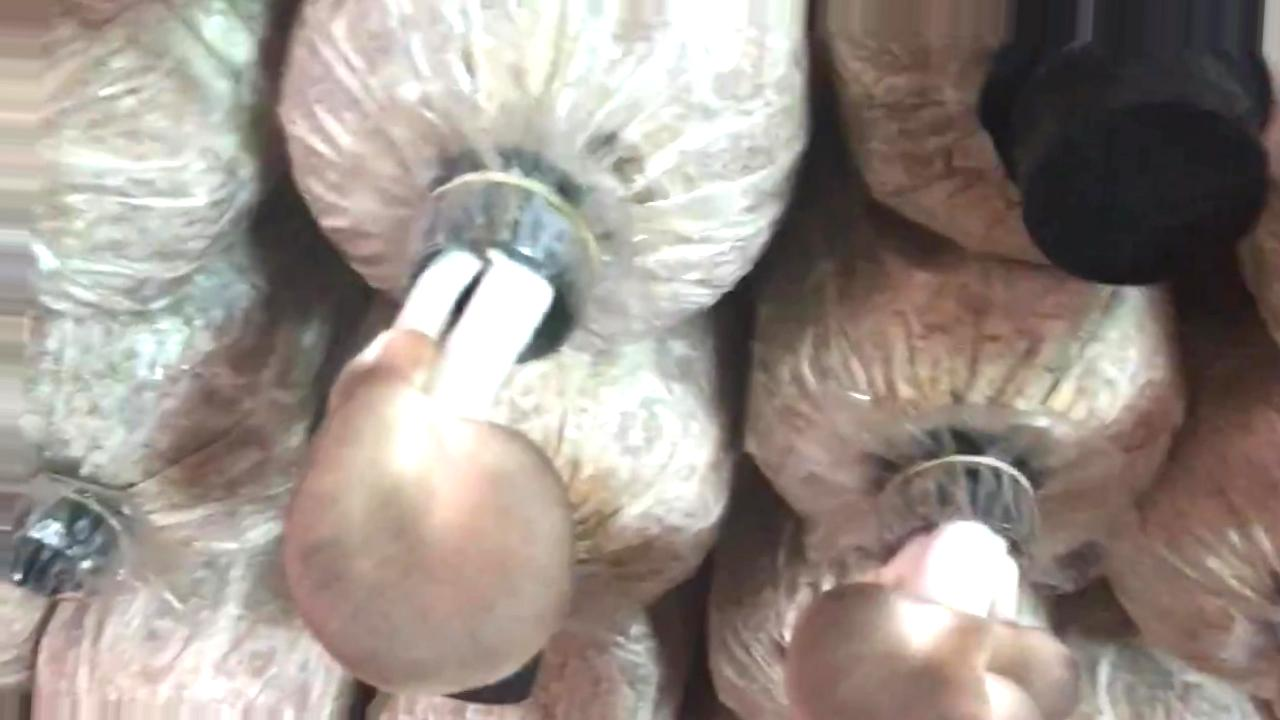nam: (284, 175, 617, 693), (788, 461, 1081, 719)
